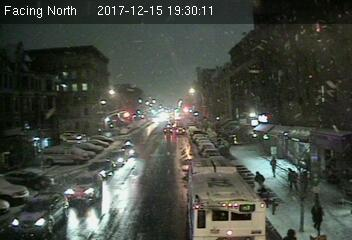bus: (187, 157, 265, 240)
car: (10, 192, 65, 236), (66, 171, 102, 200), (87, 159, 114, 180), (119, 140, 138, 158), (107, 150, 128, 166), (162, 124, 173, 135), (174, 127, 186, 135)
pedestrian: (286, 168, 299, 192), (268, 154, 278, 178)
